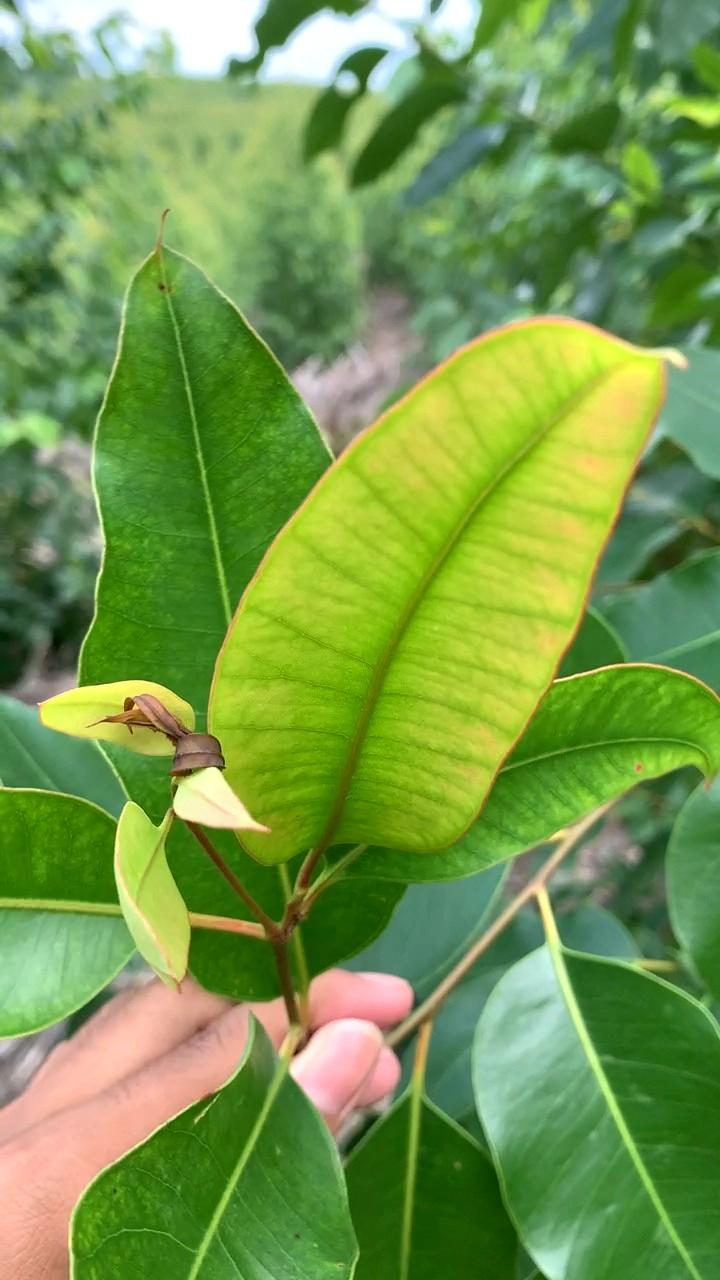Helopeltis-Withered Sprout: (103, 692, 229, 789)
